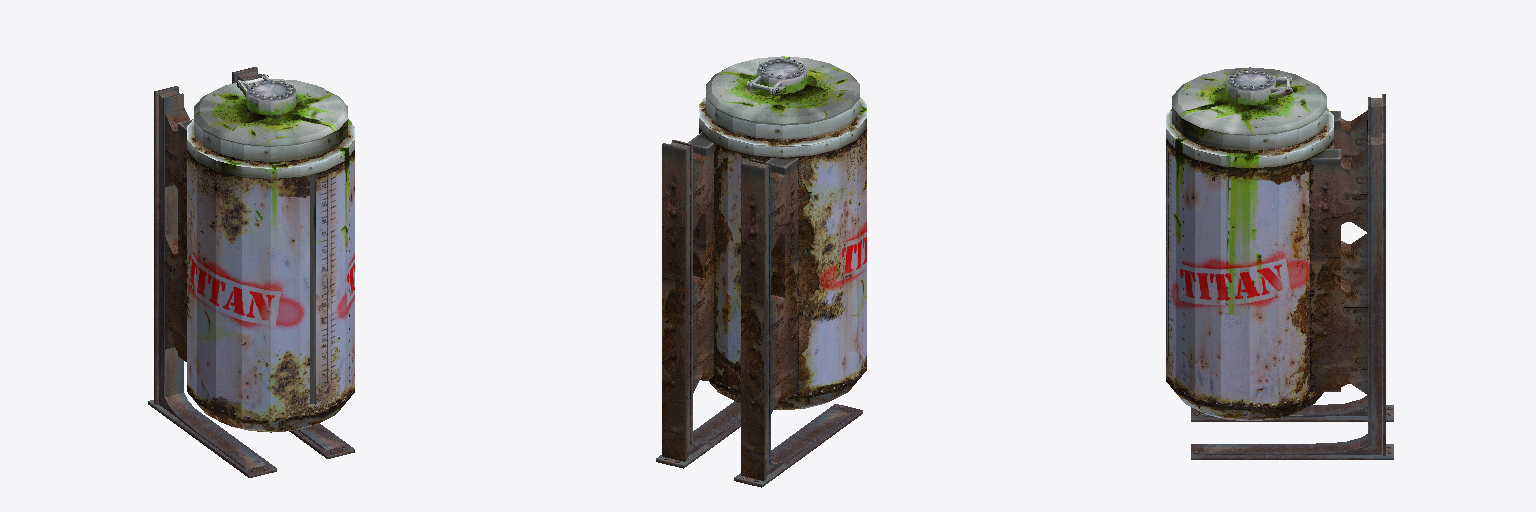
3 renders of one model, left to right at view 1: azimuth 30°, elevation 25°; view 2: azimuth 150°, elevation 25°; view 3: azimuth 270°, elevation 25°, orthographic.
Visible parts, largest first — view 1: OBJ_Titan_Vat_Damaged; view 2: OBJ_Titan_Vat_Damaged; view 3: OBJ_Titan_Vat_Damaged.
Part boxes in pixels (x1,y1,x2,y2): OBJ_Titan_Vat_Damaged: (148,67,354,477); OBJ_Titan_Vat_Damaged: (656,56,866,487); OBJ_Titan_Vat_Damaged: (1166,67,1393,459).
Bounding box in the file's own units: 137 × 314 × 183.
Materials: 2 (1 with a texture image).